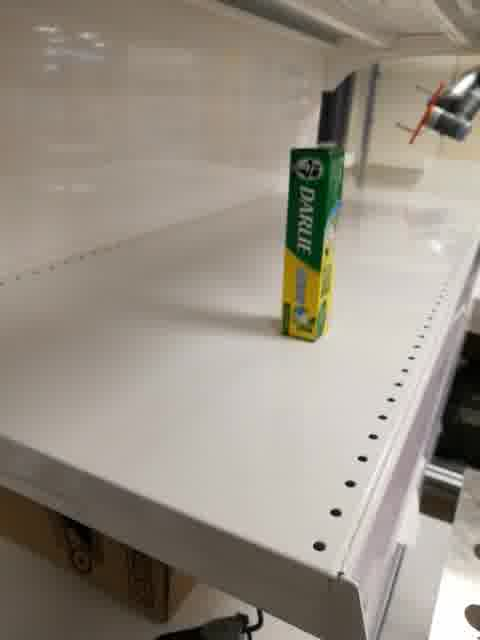toothpaste: (282, 144, 343, 344)
